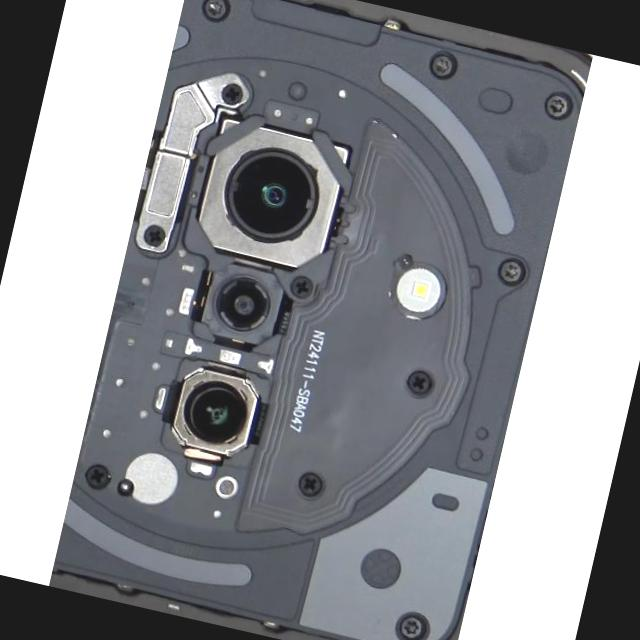Torx: (426, 48, 459, 80), (496, 256, 528, 288), (199, 0, 231, 23), (399, 615, 424, 639), (548, 96, 565, 114)
